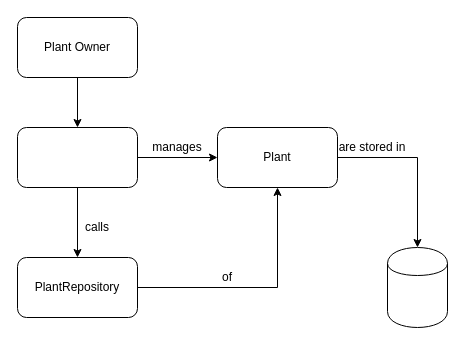
This 465x345 diagram has some shape labels left out. The centre of each missing label's shape, as x and y in pixels:
DB: (417,287)
PlantController: (77,157)
